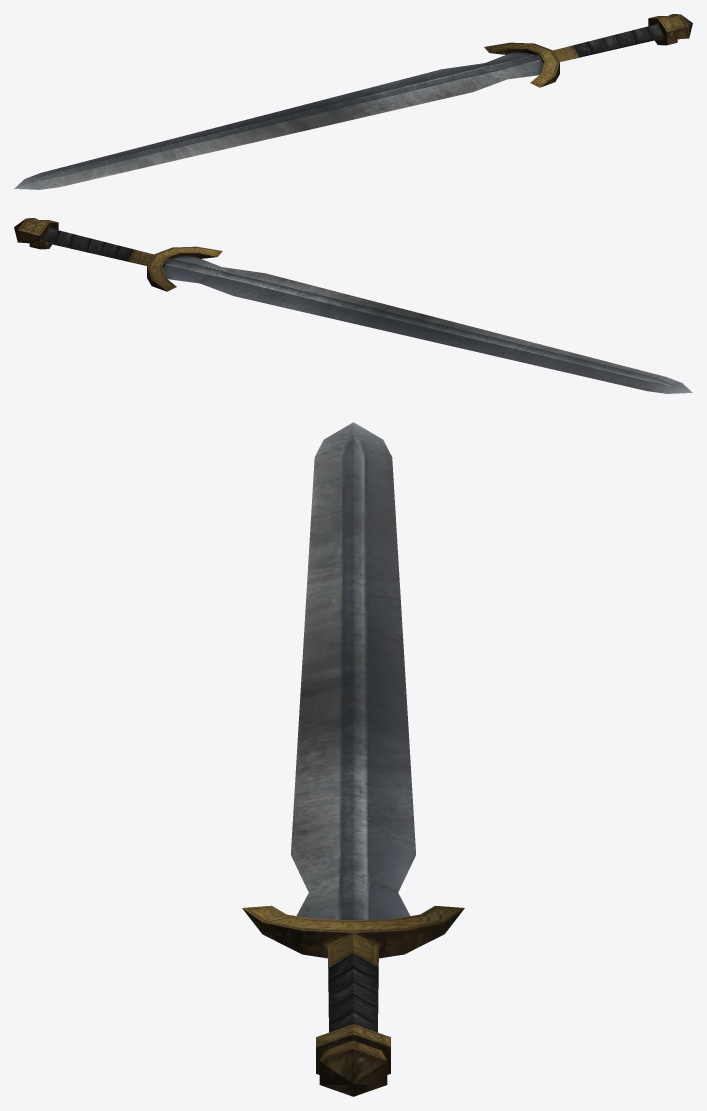
Rendered from KM_ITMW_1H_SWORD_08.glb.
3 views of the same model, one above another, from view 1: azimuth 30°, elevation 25°; view 2: azimuth 150°, elevation 25°; view 3: azimuth 270°, elevation 25° (orthographic). The views are drawn at different scales.
Parts seen in each view (by area): view 1: KM_ITMW_1H_SWORD_08; view 2: KM_ITMW_1H_SWORD_08; view 3: KM_ITMW_1H_SWORD_08.
Boxes of the visible parts, x1,y1,x2,y2 form: KM_ITMW_1H_SWORD_08: [14, 14, 692, 189]; KM_ITMW_1H_SWORD_08: [14, 218, 692, 393]; KM_ITMW_1H_SWORD_08: [242, 422, 464, 1096].
Size of the model in its own units: 1.02 by 0.0382 by 0.1457.
2 materials, 2 textured.
